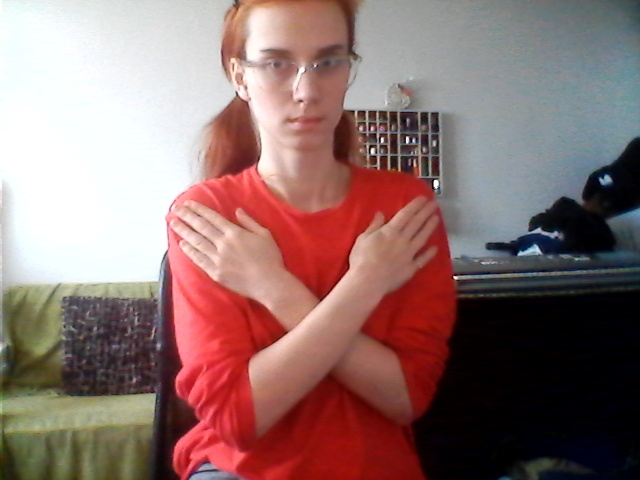z: (163, 197, 461, 443)
